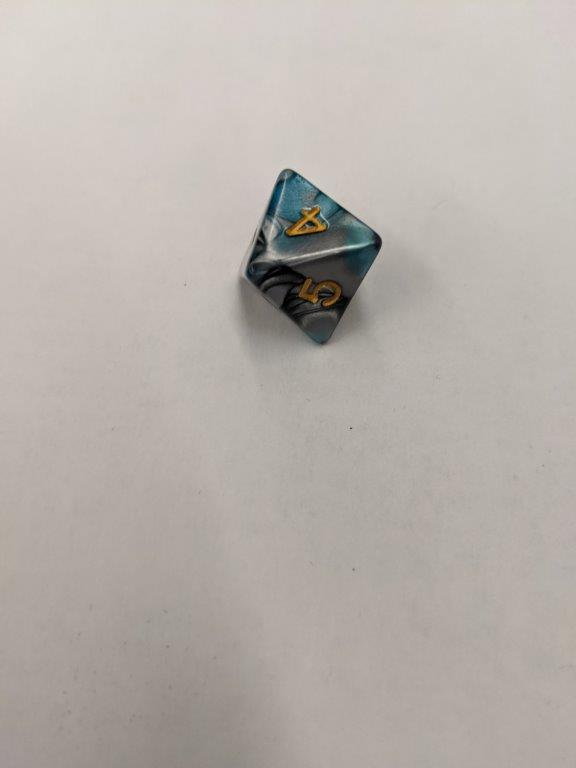d8-4: (239, 168, 383, 352)
